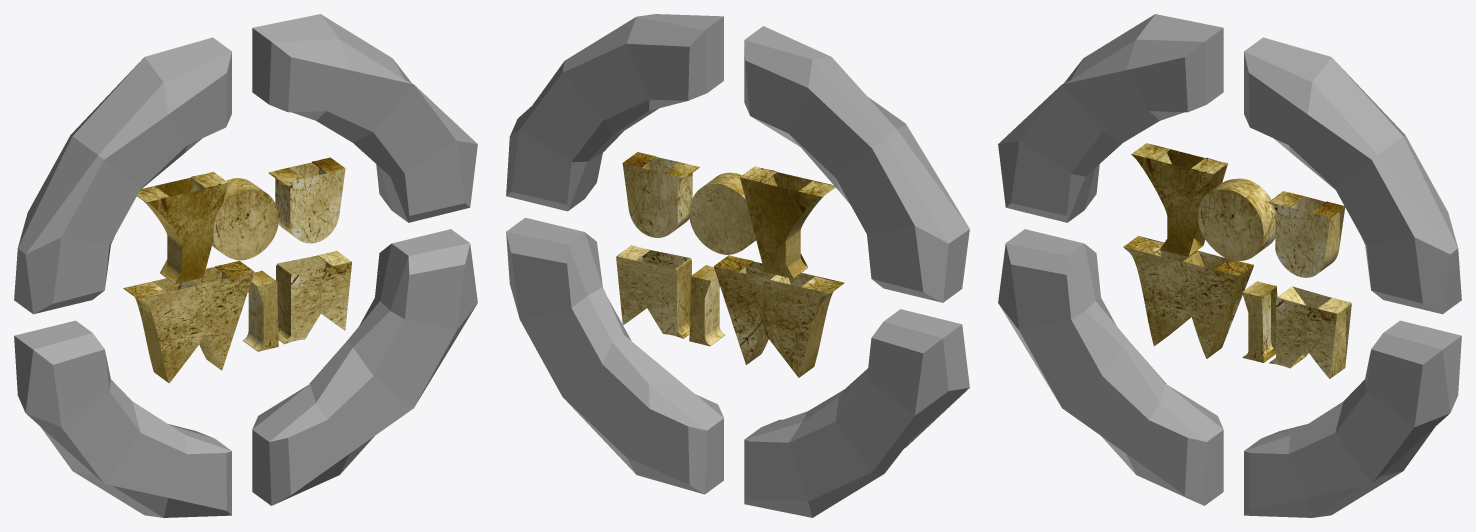
Rendered from you_win.fbx.
The picture shows the model from 3 angles, left to right: view 1: azimuth 30°, elevation 25°; view 2: azimuth 150°, elevation 25°; view 3: azimuth 330°, elevation 25°; orthographic projection.
Parts seen in each view (by area): view 1: win, clock_qauter_4, clock_qauter_2, clock_qauter_1, clock_qauter_3; view 2: win, clock_qauter_2, clock_qauter_4, clock_qauter_3, clock_qauter_1; view 3: win, clock_qauter_1, clock_qauter_3, clock_qauter_4, clock_qauter_2.
Boxes of the visible parts, box(x1,y1,x2,y2) form: win: box(123, 157, 351, 383); clock_qauter_4: box(14, 37, 231, 314); clock_qauter_2: box(252, 229, 477, 505); clock_qauter_1: box(252, 14, 477, 222); clock_qauter_3: box(14, 320, 231, 517); win: box(616, 152, 844, 377); clock_qauter_2: box(506, 217, 723, 494); clock_qauter_4: box(744, 26, 969, 302); clock_qauter_3: box(744, 309, 969, 517); clock_qauter_1: box(506, 14, 723, 211); win: box(1123, 143, 1351, 378); clock_qauter_1: box(1244, 37, 1461, 314); clock_qauter_3: box(998, 229, 1223, 505); clock_qauter_4: box(998, 14, 1223, 222); clock_qauter_2: box(1244, 320, 1461, 517).
Bounding box in the file's own units: 36.45 × 35.75 × 4.71.
2 materials, 1 textured.
